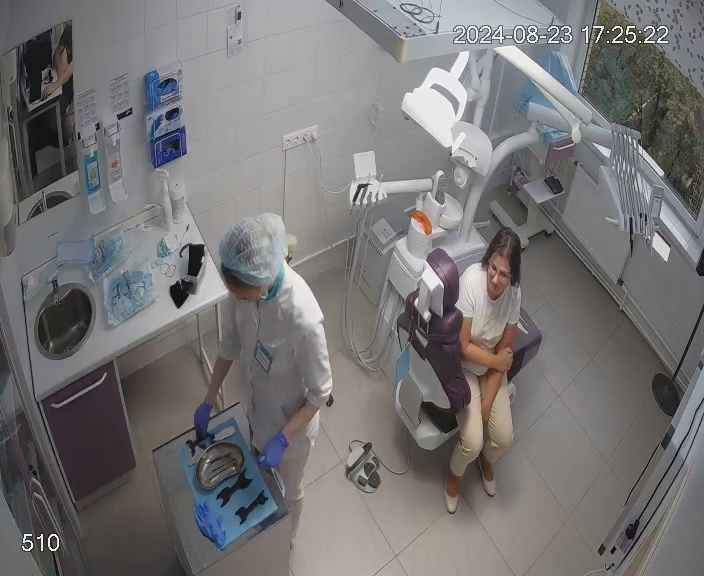Empty: (396, 229, 544, 513)
